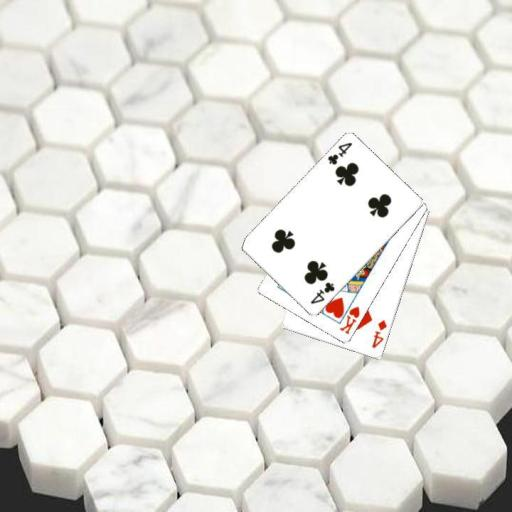4C: (324, 140, 354, 167), (308, 279, 337, 306)
4D: (369, 317, 388, 350)
KH: (337, 303, 362, 336)
